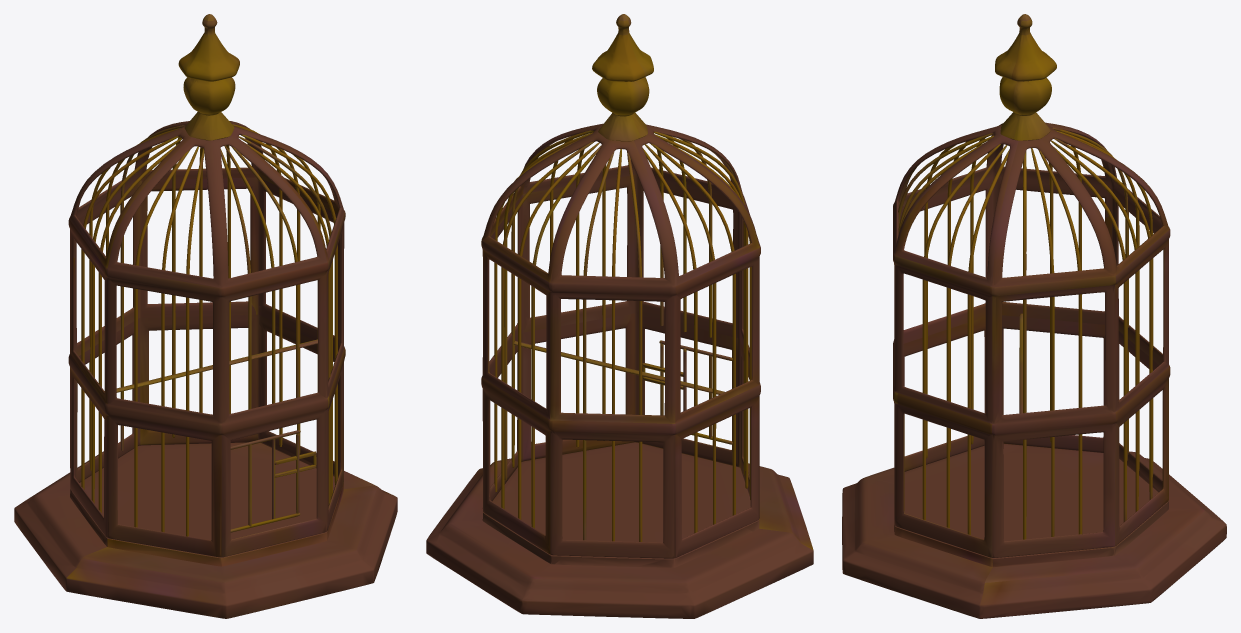
File: birdcage.glb
3 views of the same model, side by side, from view 1: azimuth 30°, elevation 25°; view 2: azimuth 150°, elevation 25°; view 3: azimuth 270°, elevation 25° (orthographic).
Parts seen in each view (by area): view 1: Object_6; view 2: Object_6; view 3: Object_6.
Boxes of the visible parts, bbox=[...] form: Object_6: bbox=[14, 14, 397, 618]; Object_6: bbox=[426, 14, 813, 618]; Object_6: bbox=[842, 14, 1226, 618].
Size of the model in its own units: 99.99 by 150 by 99.99.
Materials: 1 (1 with a texture image).
